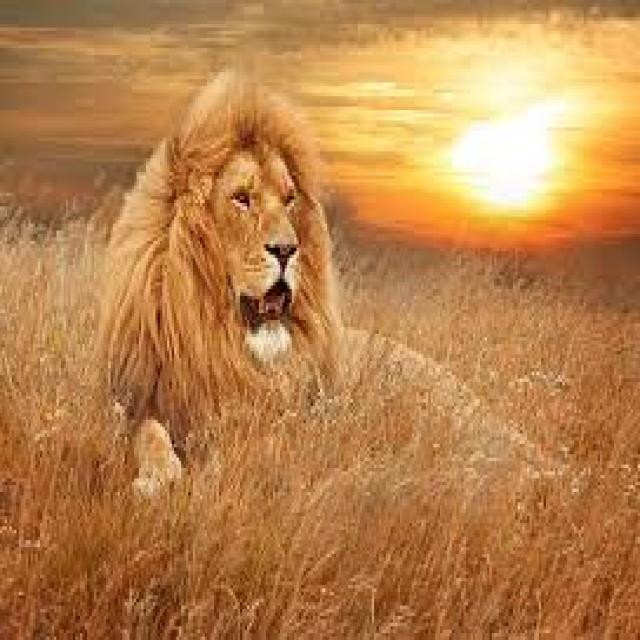Lion: (102, 75, 555, 491)
